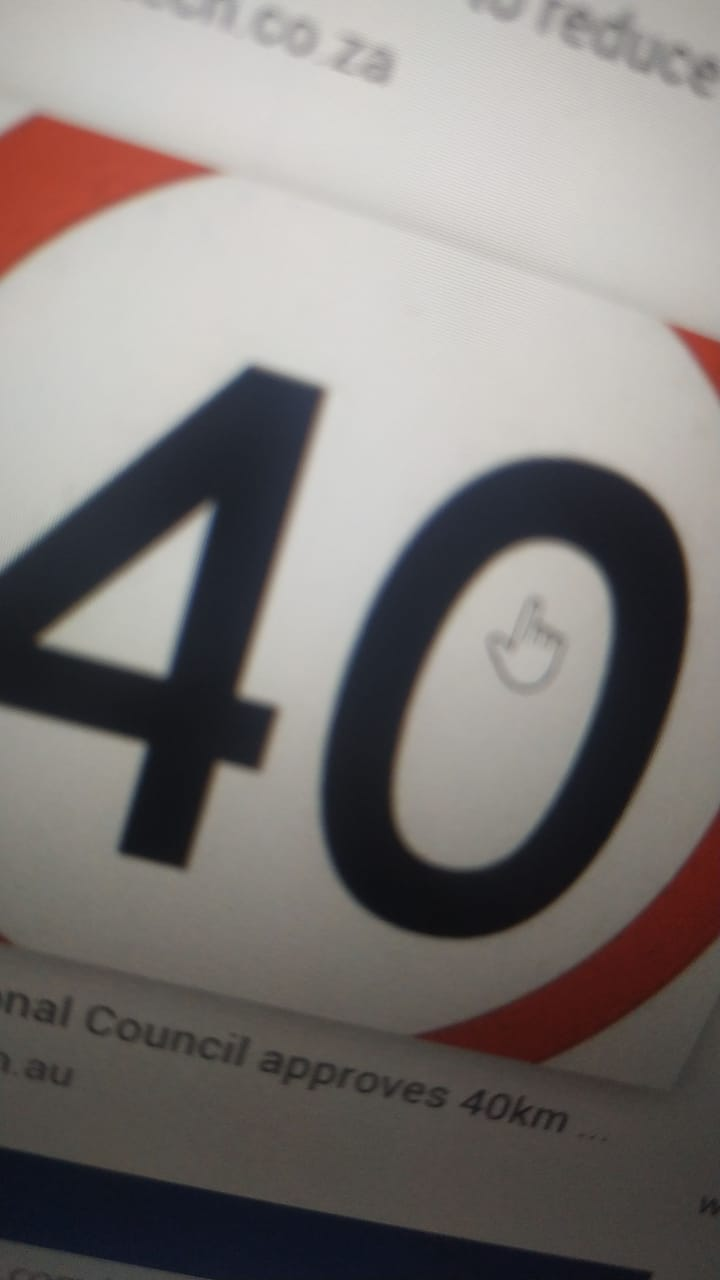SPEED LIMIT (40 KM/H): (1, 29, 698, 1103)
